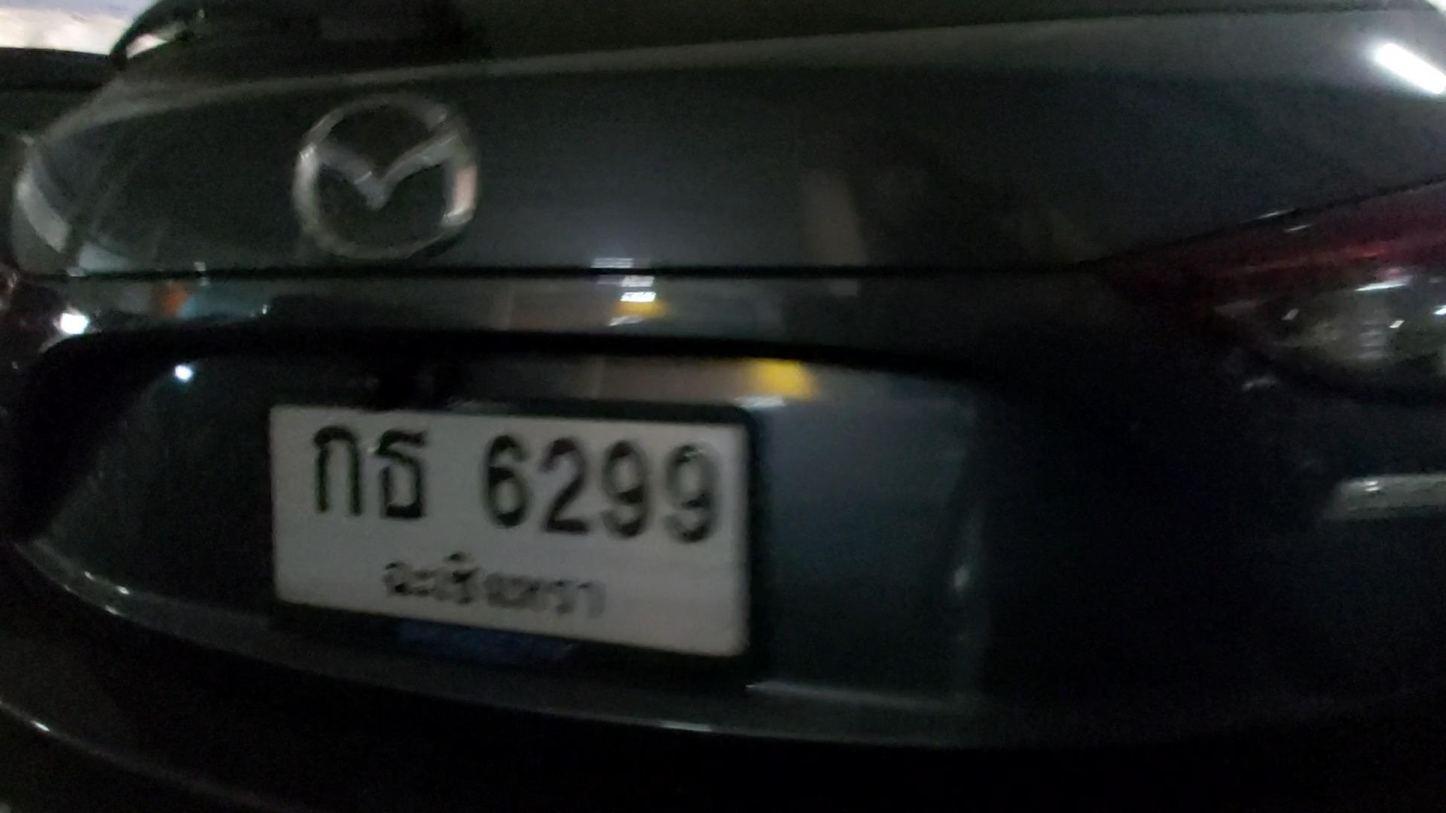license-plate: (266, 405, 748, 660)
